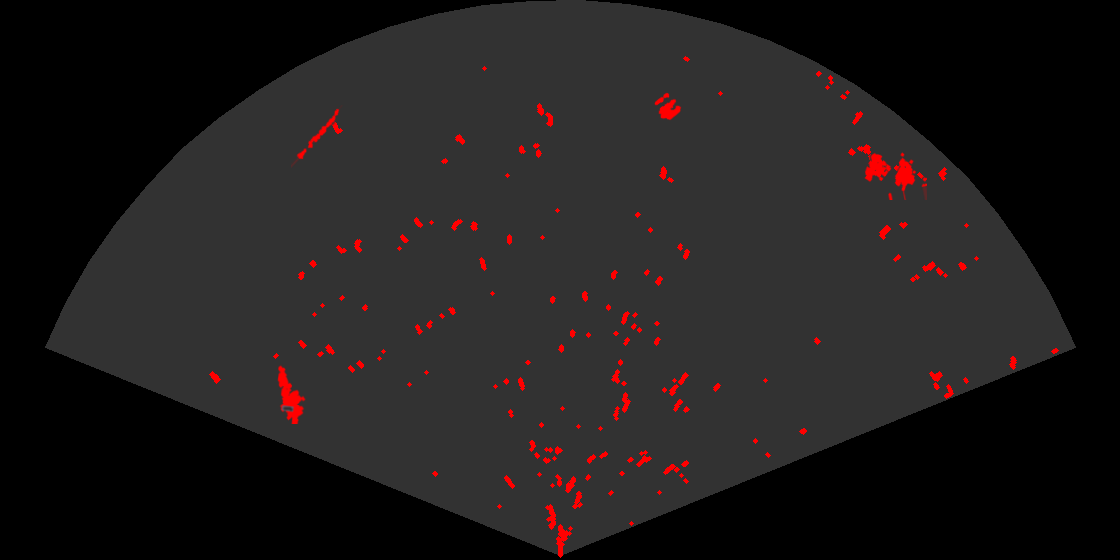ball: (653, 91, 683, 122)
cage: (863, 151, 927, 200)
chain: (291, 105, 344, 168)
frogman: (276, 364, 307, 424)
